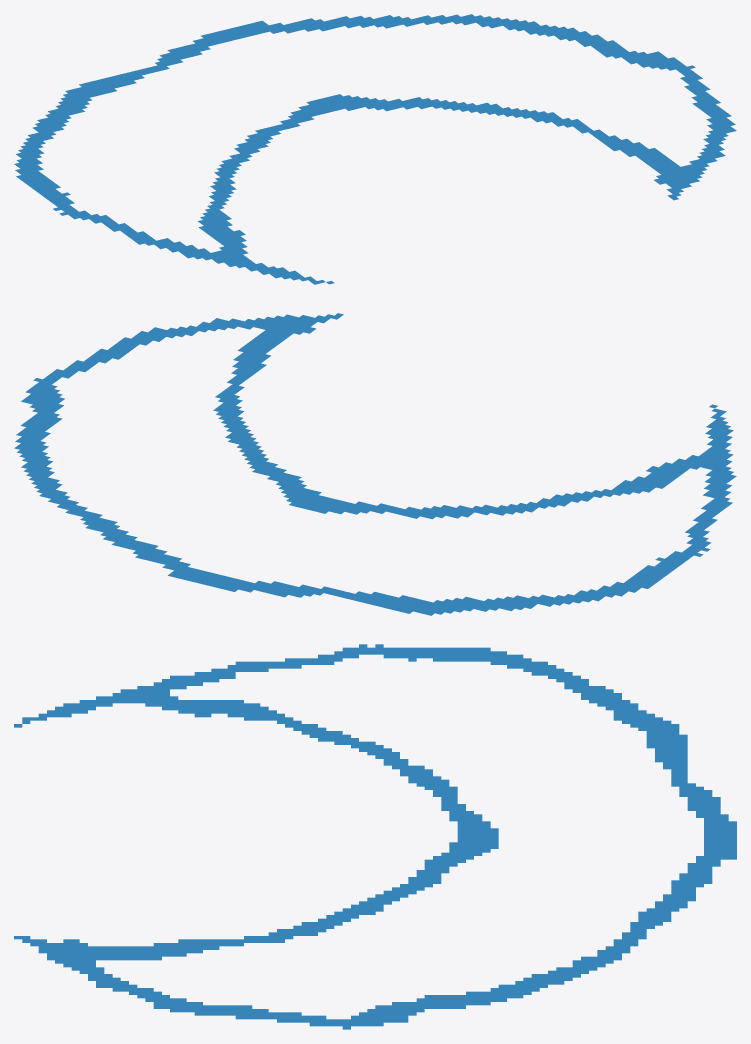
The model's file is Isl-crescent2-PlaceForWaterObjects.fbx.
3 renders of one model, top to bottom at view 1: azimuth 30°, elevation 25°; view 2: azimuth 150°, elevation 25°; view 3: azimuth 270°, elevation 25°, orthographic. The views are drawn at different scales.
Visible parts, largest first — view 1: Isl-crescent2-PlaceForWaterObjects; view 2: Isl-crescent2-PlaceForWaterObjects; view 3: Isl-crescent2-PlaceForWaterObjects.
Part boxes in pixels (<box>): Isl-crescent2-PlaceForWaterObjects: <box>14,14,736,284</box>; Isl-crescent2-PlaceForWaterObjects: <box>14,313,736,615</box>; Isl-crescent2-PlaceForWaterObjects: <box>14,644,736,1029</box>.
Size of the model in its own units: 111 by 0 by 88.
